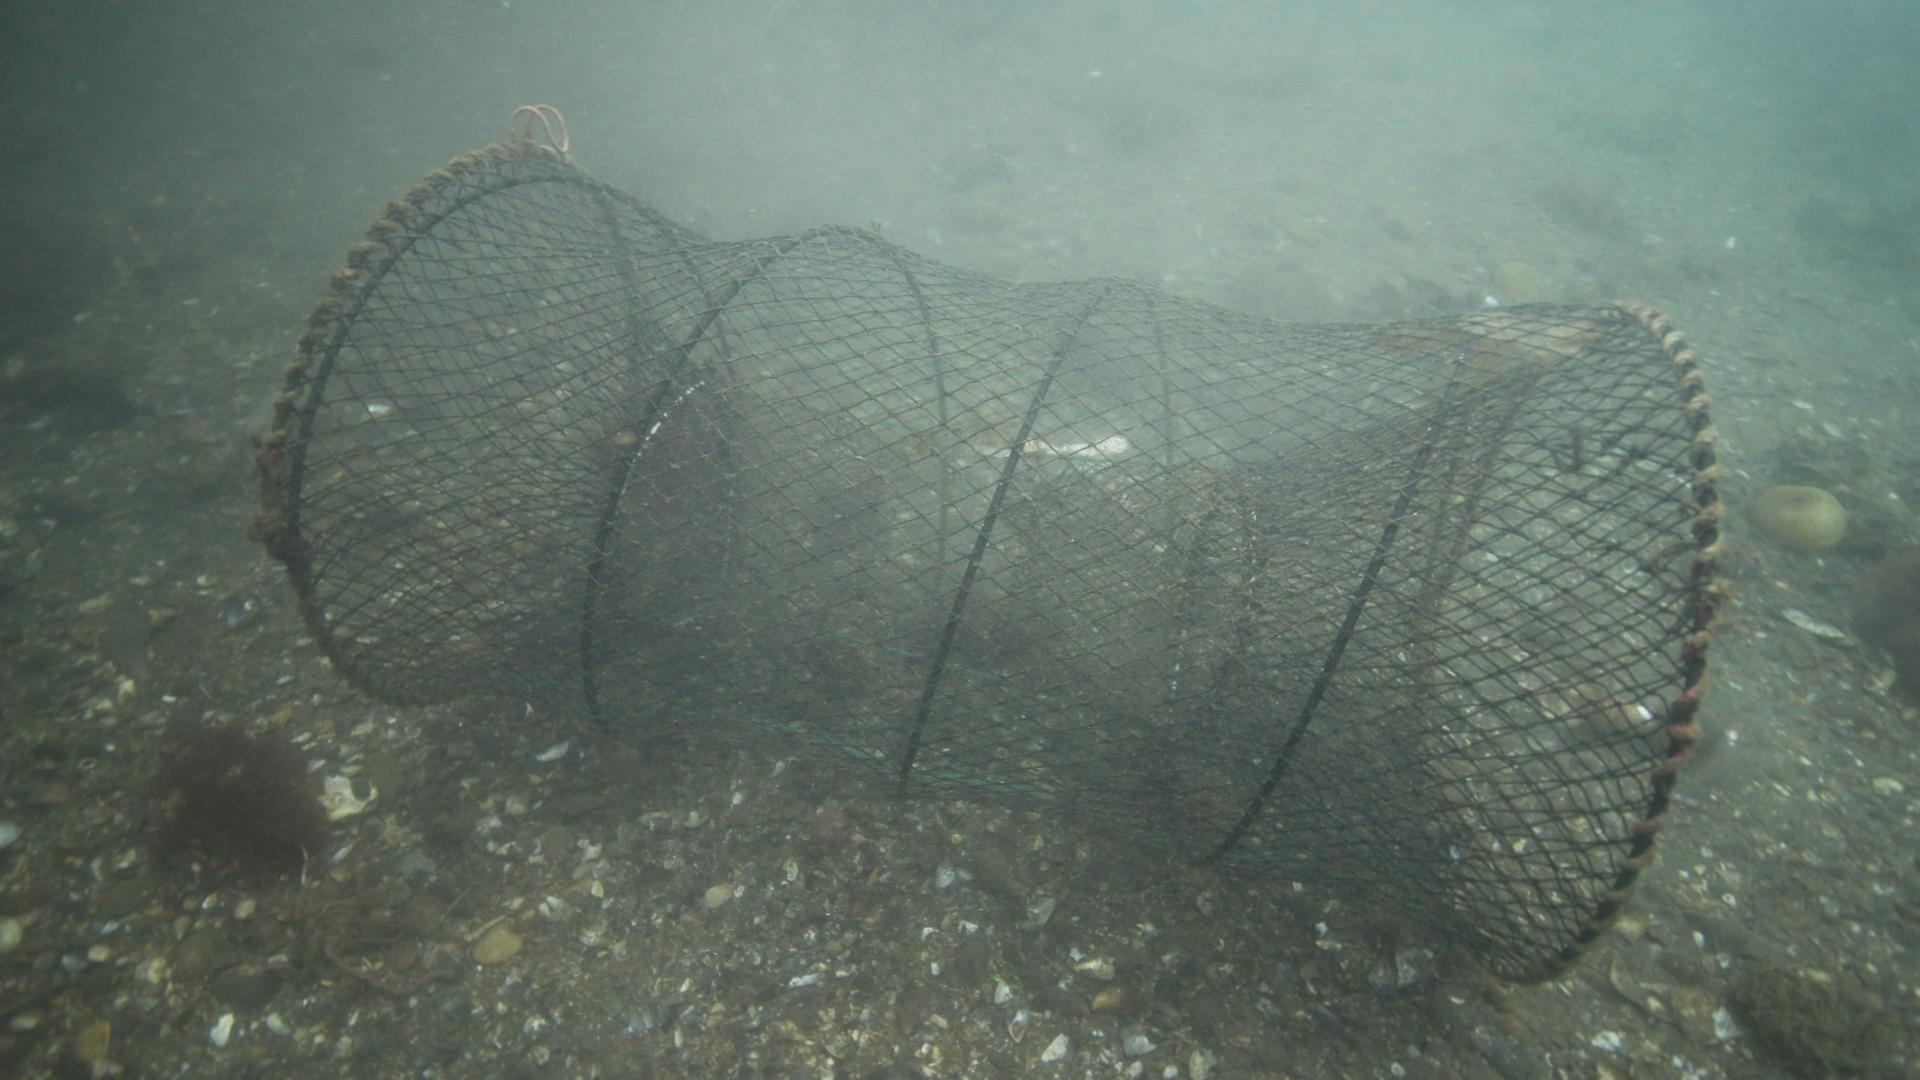spring fish trap: (262, 132, 1725, 985)
